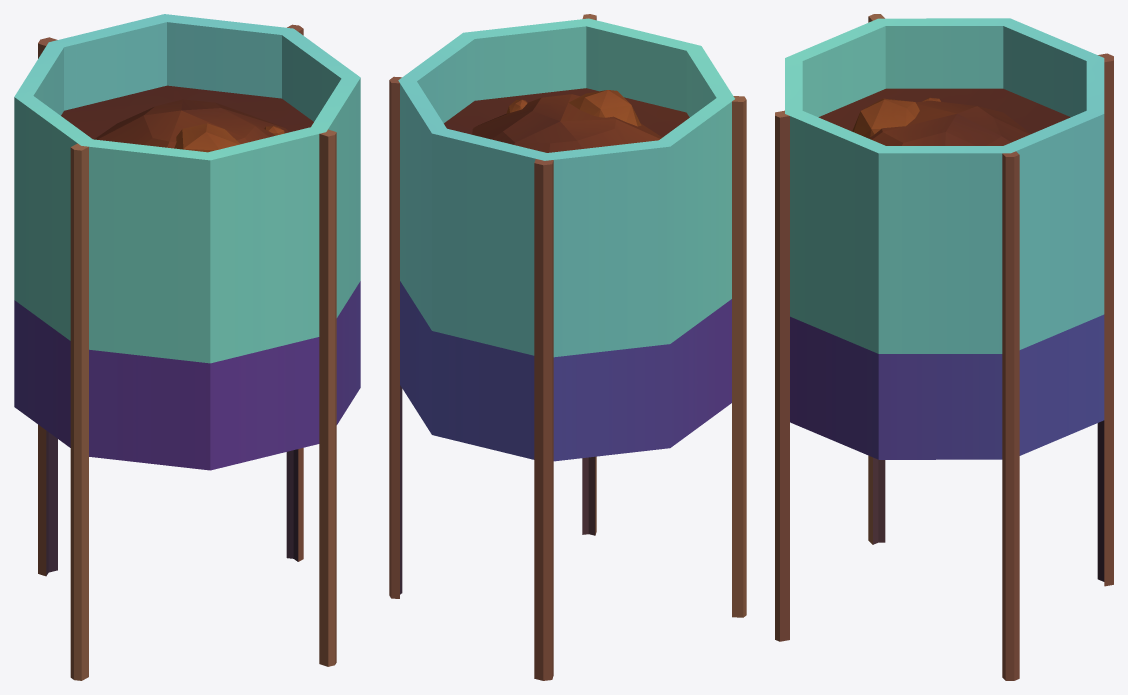
The model's file is Garden_UkeaPlanter02.fbx.
3 renders of one model, left to right at view 1: azimuth 30°, elevation 25°; view 2: azimuth 150°, elevation 25°; view 3: azimuth 270°, elevation 25°, orthographic. The views are drawn at different scales.
Parts seen in each view (by area): view 1: Plant Pot.001; view 2: Plant Pot.001; view 3: Plant Pot.001.
Boxes of the visible parts, x1,y1,x2,y2 form: Plant Pot.001: (14,14,360,680); Plant Pot.001: (389,14,746,680); Plant Pot.001: (775,14,1113,680).
Bounding box in the file's own units: 30.04 × 51.39 × 30.11.
